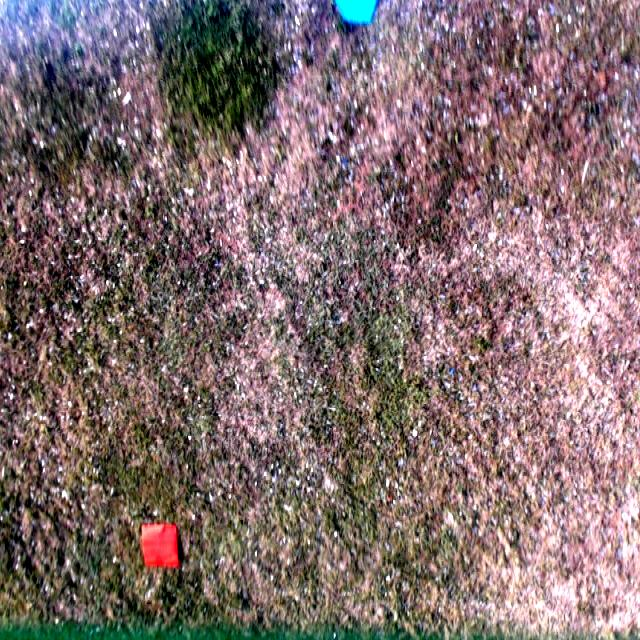red_square: (143, 523, 179, 569)
